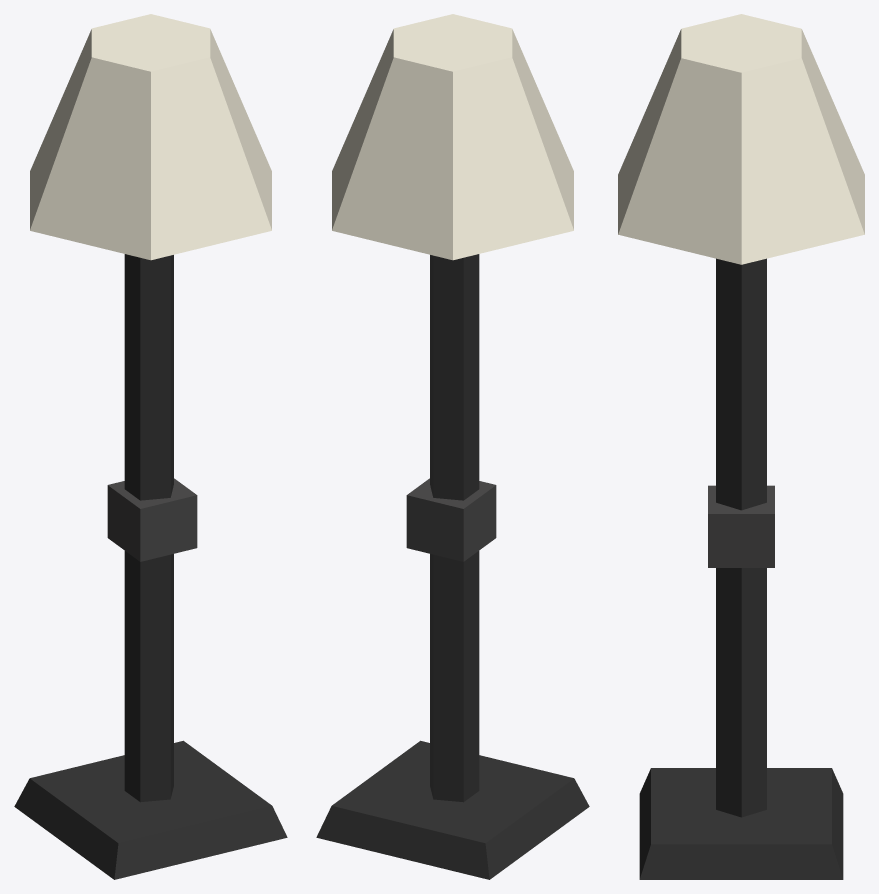
The model's file is Lamp_1.fbx.
The picture shows the model from 3 angles, left to right: view 1: azimuth 30°, elevation 25°; view 2: azimuth 150°, elevation 25°; view 3: azimuth 270°, elevation 25°; orthographic projection.
Visible parts, largest first — view 1: polySurface1485; view 2: polySurface1485; view 3: polySurface1485.
Boxes of the visible parts, x1,y1,x2,y2 form: polySurface1485: (14, 14, 287, 879); polySurface1485: (316, 14, 589, 879); polySurface1485: (618, 14, 864, 879).
Size of the model in its own units: 0.7403 by 2.28 by 0.6411.
1 material, 1 textured.
